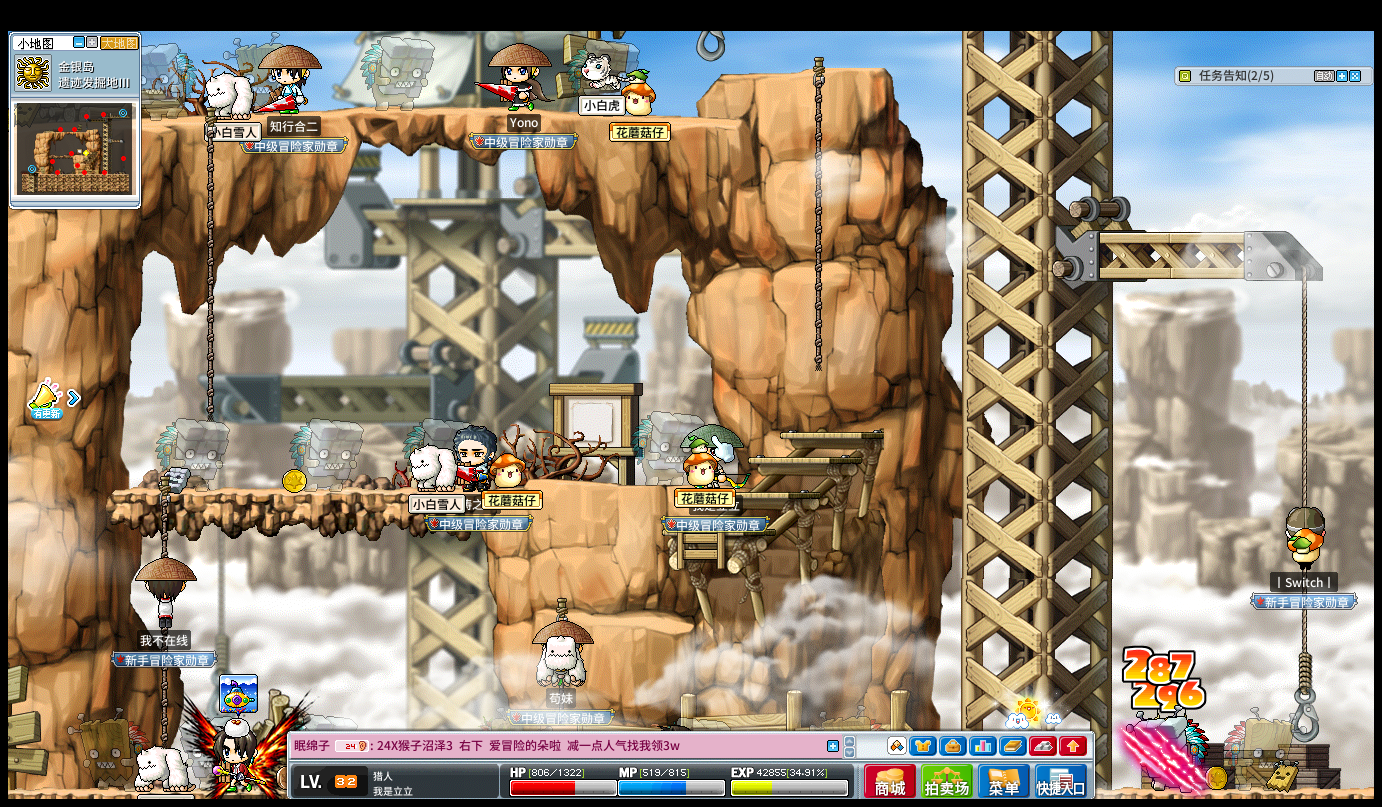floor: (116, 104, 742, 129), (109, 487, 499, 499), (1098, 228, 1295, 243), (716, 63, 895, 77), (714, 67, 896, 79), (590, 612, 693, 633), (590, 481, 763, 490), (776, 429, 883, 440), (749, 455, 858, 463), (733, 489, 817, 498)
monster: (1223, 710, 1307, 790), (359, 32, 433, 109), (154, 416, 229, 491), (70, 710, 140, 788), (290, 417, 363, 491), (1137, 715, 1205, 788), (139, 42, 200, 118), (631, 411, 688, 483)
rope: (811, 55, 824, 379), (203, 108, 216, 425), (1297, 273, 1310, 467), (1297, 610, 1312, 697), (156, 478, 170, 557), (1297, 444, 1311, 505), (1298, 610, 1308, 692), (157, 667, 167, 743)
